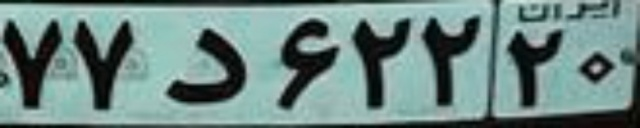0: (570, 49, 619, 84)
2: (419, 14, 482, 109), (350, 16, 411, 110), (504, 28, 563, 106)
6: (273, 16, 340, 111)
7: (71, 14, 135, 111), (0, 14, 62, 110)
dal: (164, 26, 251, 104)
